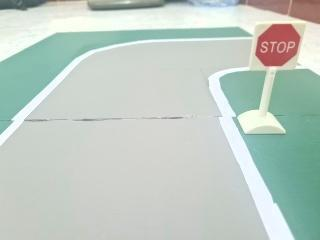stop: (247, 20, 303, 73)
